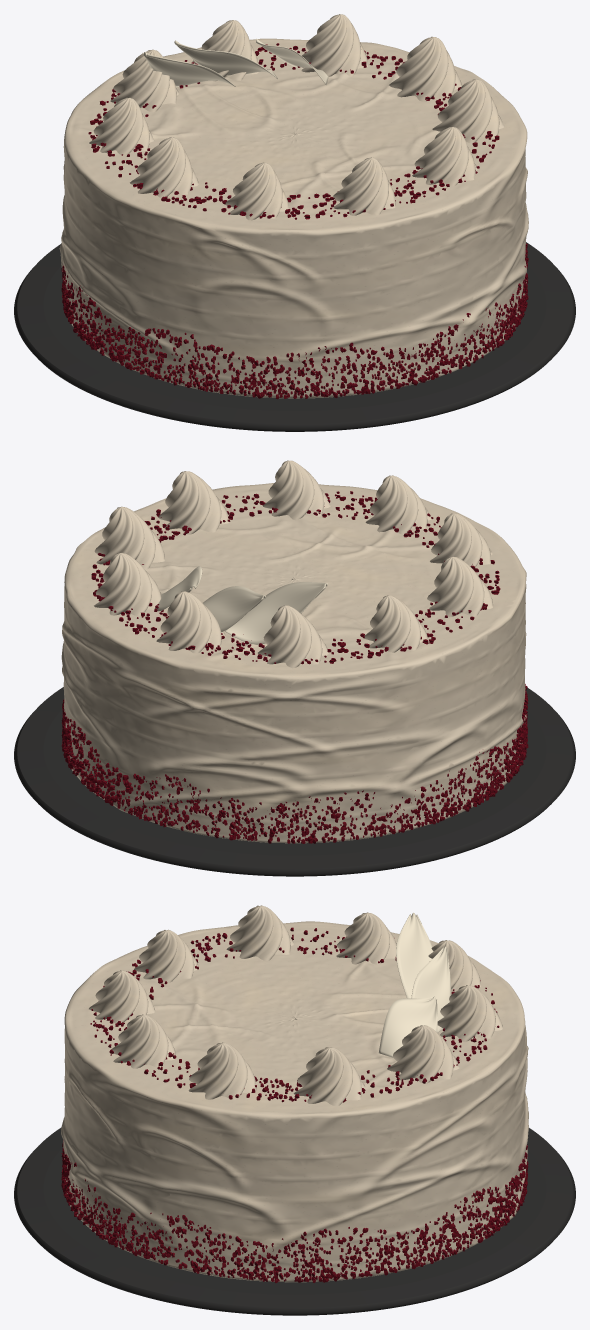
File: redvelvet.glb
3 views of the same model, one above another, from view 1: azimuth 30°, elevation 25°; view 2: azimuth 150°, elevation 25°; view 3: azimuth 270°, elevation 25° (orthographic).
Visible parts, largest first — view 1: red_velvet_crumb, charcoal_ceramic.002, piped_cream_cheese, velvet_crumb, white_chocolate_shard; view 2: red_velvet_crumb, charcoal_ceramic.002, piped_cream_cheese, velvet_crumb, white_chocolate_shard; view 3: red_velvet_crumb, charcoal_ceramic.002, piped_cream_cheese, velvet_crumb, white_chocolate_shard.
Part boxes in pixels (box(x1,y1,x2,y2)): red_velvet_crumb: box(59, 38, 528, 398); charcoal_ceramic.002: box(14, 242, 575, 431); piped_cream_cheese: box(89, 14, 504, 220); velvet_crumb: box(61, 43, 528, 399); white_chocolate_shard: box(143, 38, 328, 86); red_velvet_crumb: box(61, 483, 526, 843); charcoal_ceramic.002: box(14, 687, 575, 876); piped_cream_cheese: box(94, 460, 493, 668); velvet_crumb: box(61, 491, 528, 843); white_chocolate_shard: box(154, 566, 327, 644); red_velvet_crumb: box(61, 921, 528, 1282); charcoal_ceramic.002: box(14, 1128, 575, 1315); piped_cream_cheese: box(89, 905, 503, 1106); velvet_crumb: box(61, 927, 528, 1282); white_chocolate_shard: box(378, 912, 451, 1057).
Bounding box in the file's own units: 3.42 × 1.65 × 3.42.
5 materials, 2 textured.
